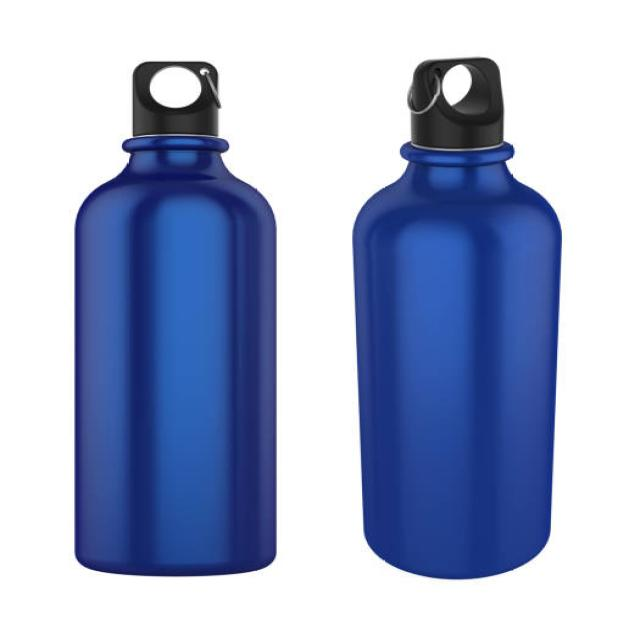blue_bottle: (345, 36, 580, 592), (72, 42, 289, 589)
